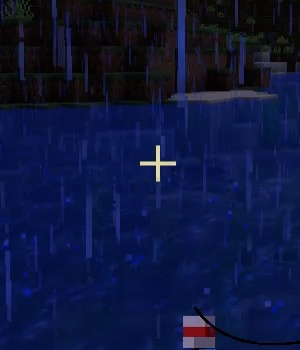up: (177, 307, 213, 350)
